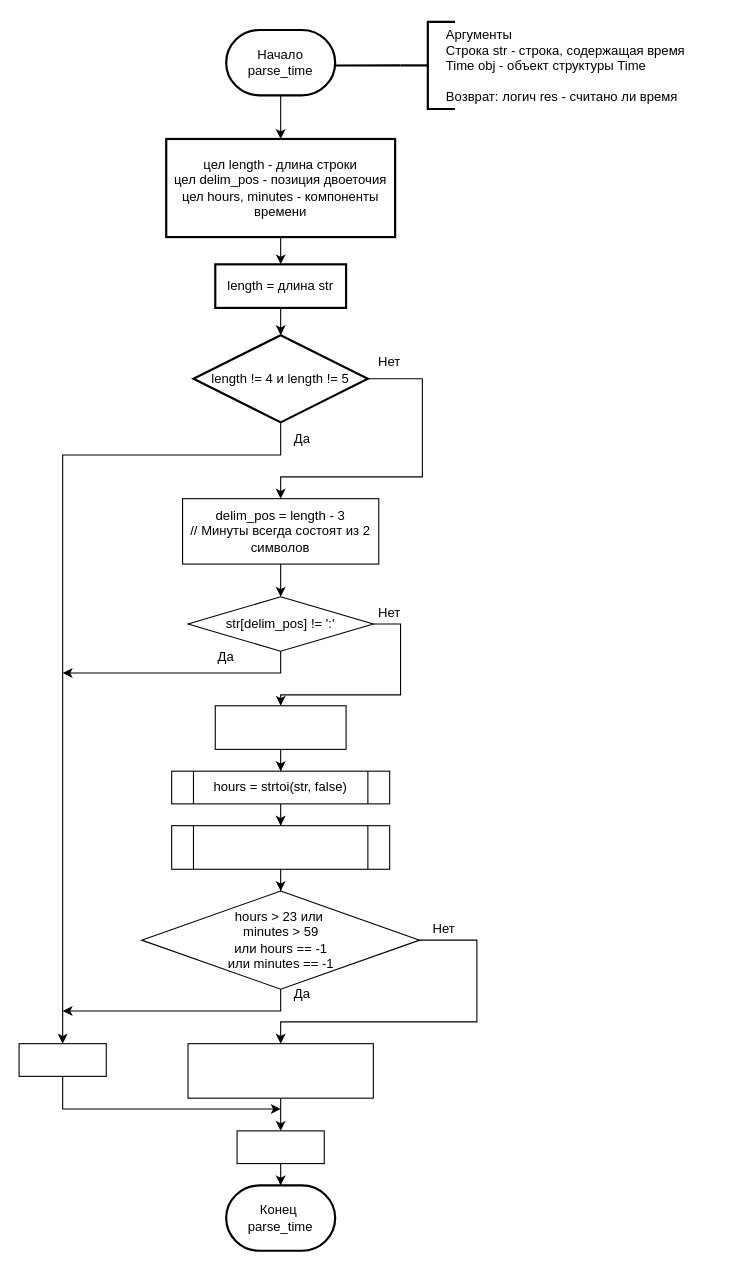
This 736x1270 diagram has some shape labels left out. Each missing label, with the centre of its shape:
hours = strtoi(str + delim_pos + 1, false): (280,847)
res = false: (62,1059)
str[delim_pos] = '\0': (280,727)
Возврат res: (280,1147)
Задать поля структуры Time значениями hours и minutes res = true: (280,1070)
